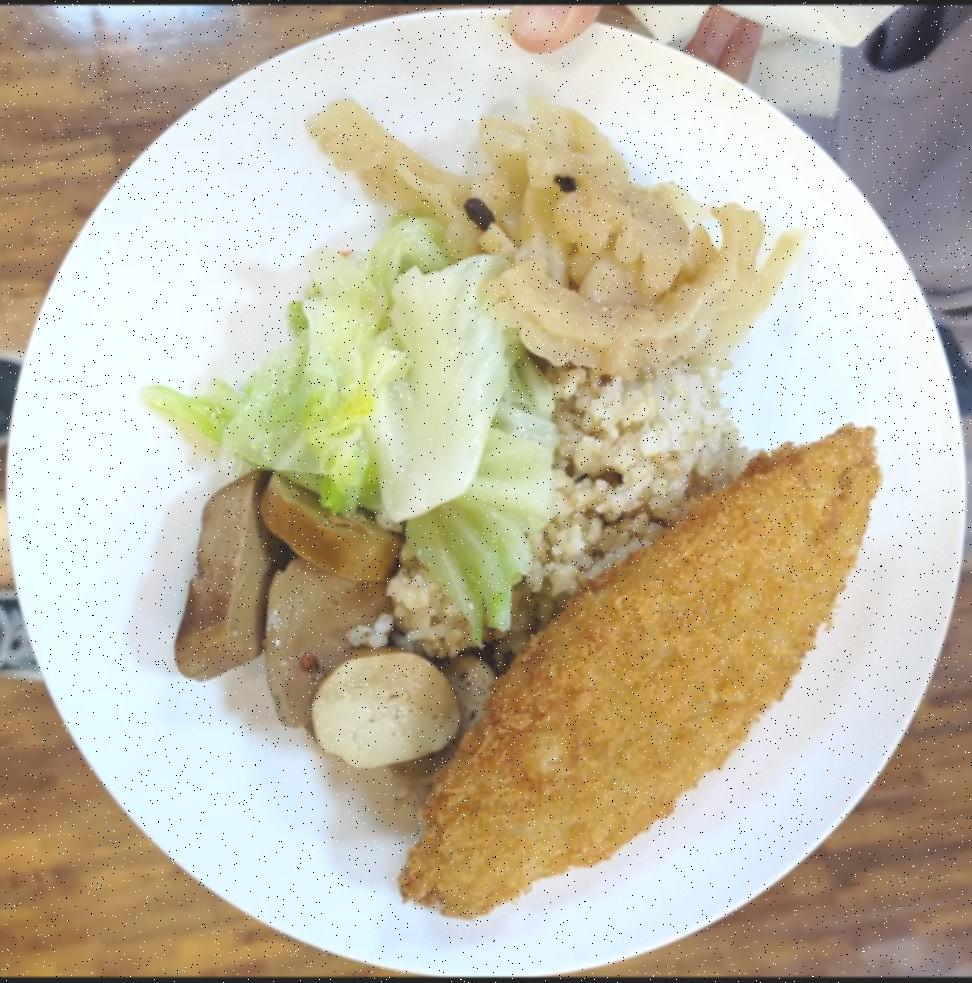big fried chicken leg: (0, 5, 967, 975)
box: (544, 360, 749, 590)
braised fish fillet: (138, 214, 553, 615), (303, 94, 795, 373), (174, 465, 497, 779)
braised pork: (400, 415, 893, 927)
